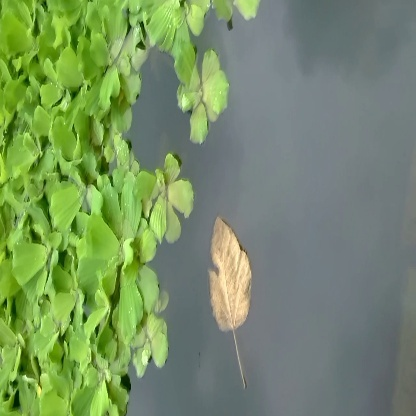leaf: (207, 216, 257, 388)
